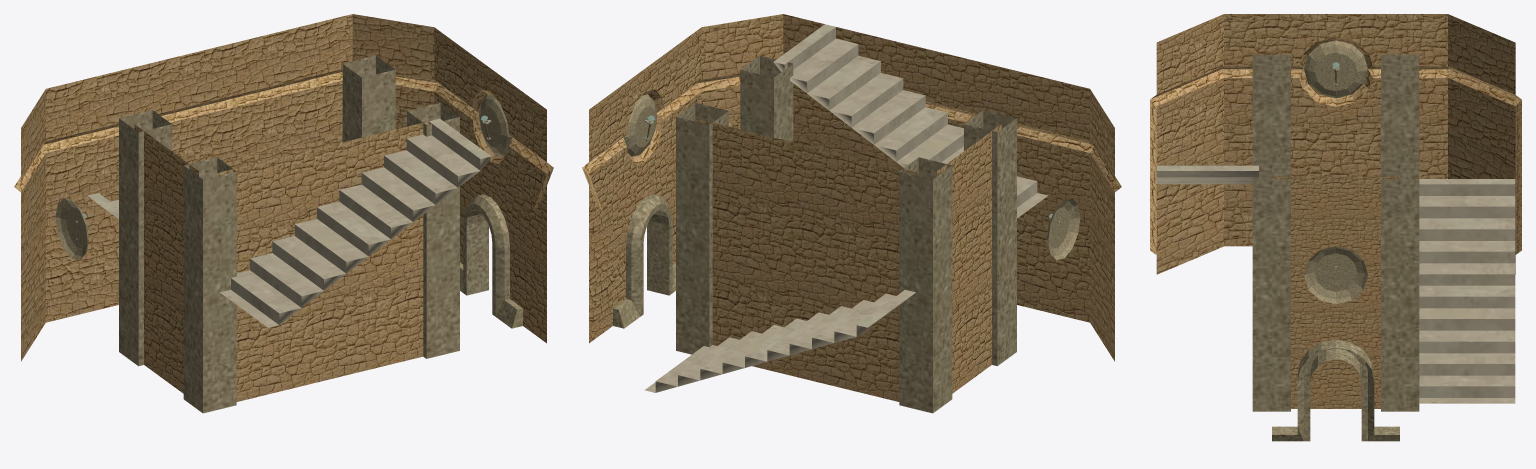
The model's file is LibraryStairsNew-transformed.glb.
3 renders of one model, left to right at view 1: azimuth 30°, elevation 25°; view 2: azimuth 150°, elevation 25°; view 3: azimuth 270°, elevation 25°, orthographic.
Visible parts, largest first — view 1: upperwALL, stairs; view 2: upperwALL, stairs; view 3: upperwALL, stairs.
Boxes of the visible parts, x1,y1,x2,y2 form: upperwALL: [14, 14, 553, 413]; stairs: [88, 118, 491, 327]; upperwALL: [582, 14, 1121, 413]; stairs: [644, 24, 1047, 392]; upperwALL: [1150, 14, 1521, 441]; stairs: [1156, 165, 1515, 403].
Size of the model in its own units: 3.9 by 2 by 2.9.
Materials: 6 (5 with a texture image).
